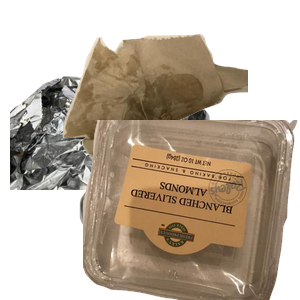glass: (77, 178, 205, 300)
metal: (10, 73, 212, 253)
plastic: (83, 120, 300, 300)
trash: (60, 31, 300, 189)
